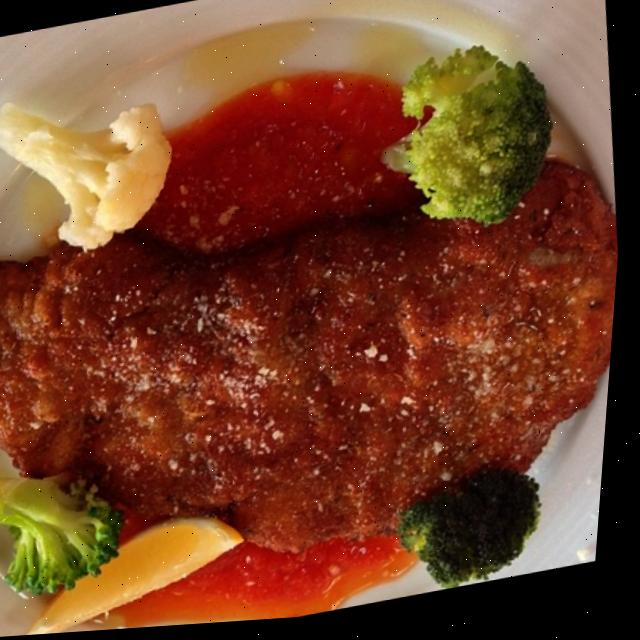牛肉菜式: (0, 118, 631, 640)
